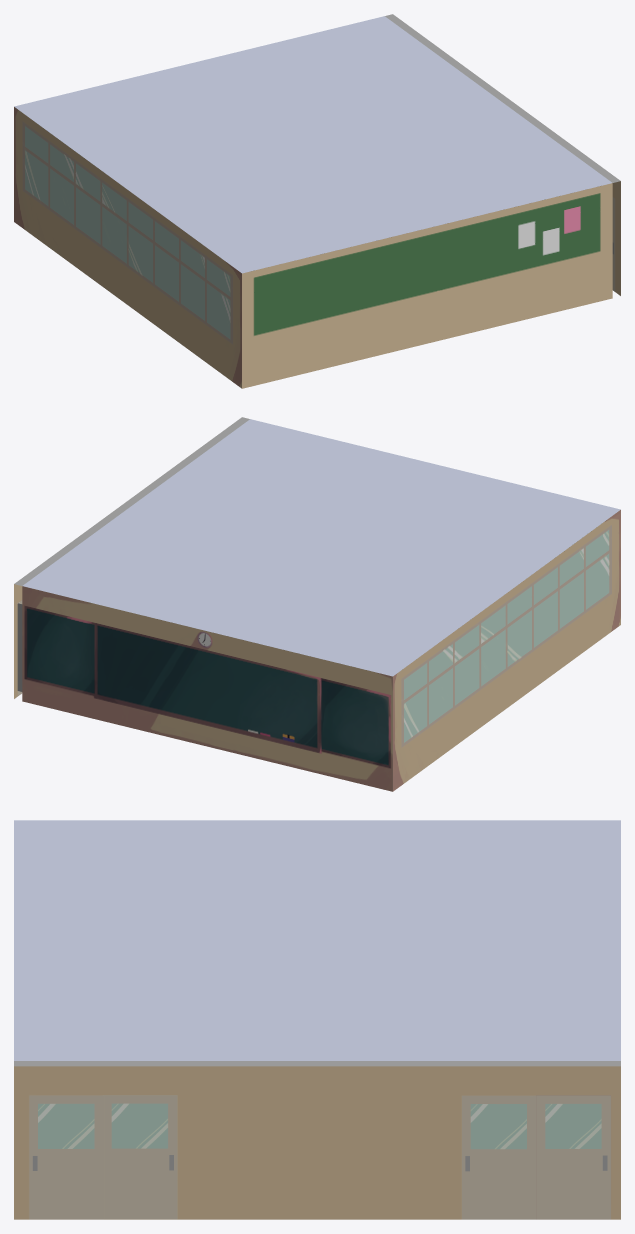
The model's file is kyusitu_4.fbx.
3 renders of one model, top to bottom at view 1: azimuth 30°, elevation 25°; view 2: azimuth 150°, elevation 25°; view 3: azimuth 270°, elevation 25°, orthographic. The views are drawn at different scales.
Parts seen in each view (by area): view 1: tenjou, polySurface2; view 2: tenjou, polySurface2; view 3: tenjou, polySurface2, dore.
Part boxes in pixels (left/top/right/bottom): tenjou: left=14, top=16, right=611, bottom=273; polySurface2: left=14, top=14, right=620, bottom=388; tenjou: left=23, top=419, right=620, bottom=676; polySurface2: left=14, top=417, right=620, bottom=791; tenjou: left=14, top=820, right=620, bottom=1060; polySurface2: left=14, top=1061, right=620, bottom=1219; dore: left=536, top=1095, right=610, bottom=1219.
Size of the model in its own units: 23.39 by 6.8 by 24.39.
